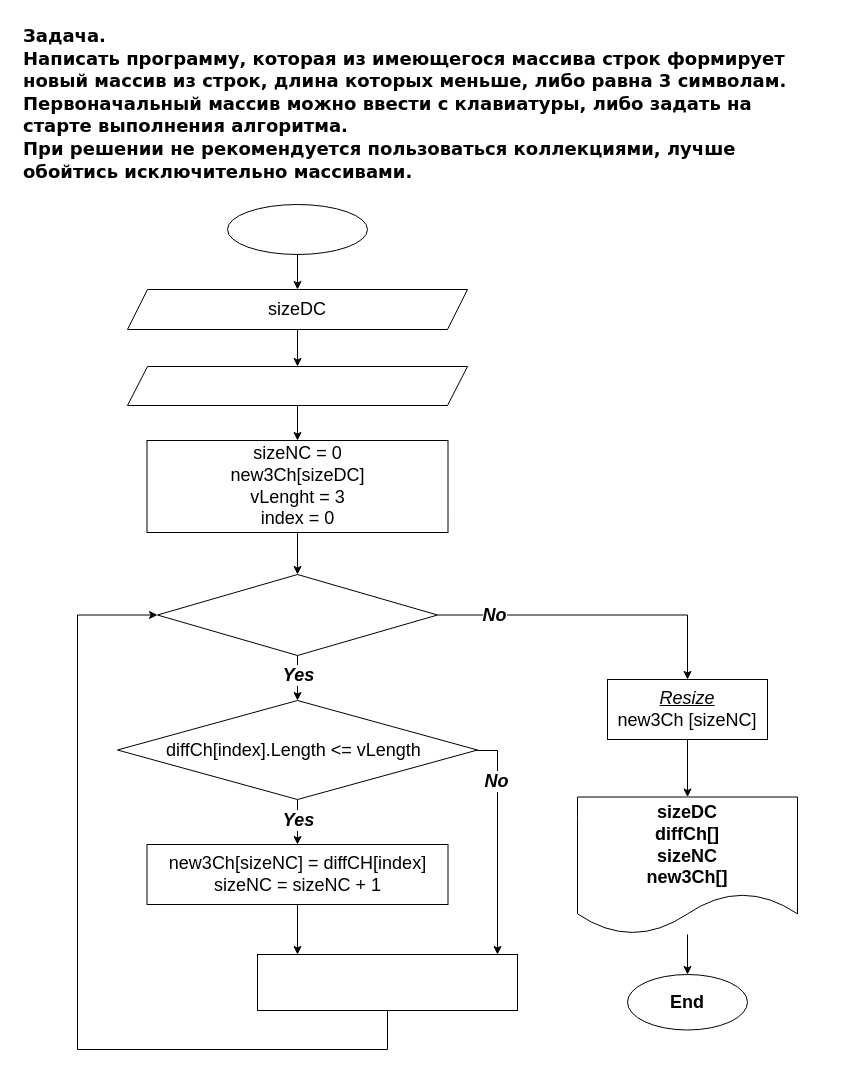
Image size: 844x1075. Some labels were removed from this diagram. The shapes that lost their labels are listed below. From the top down, each one's centre as x and y in pixels, then its label:
point (297, 229): Start
point (297, 386): diffCh[sizeDC]
point (297, 615): index < diffCh.Length
point (387, 982): index = index + 1
